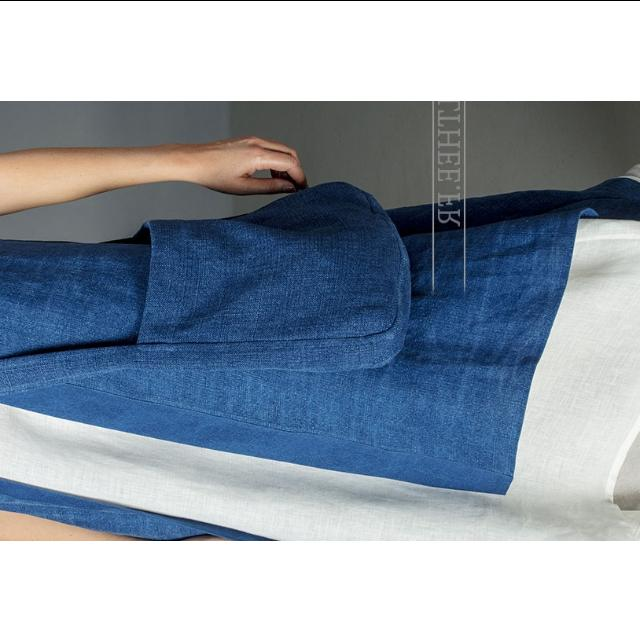linen: (0, 240, 640, 478)
